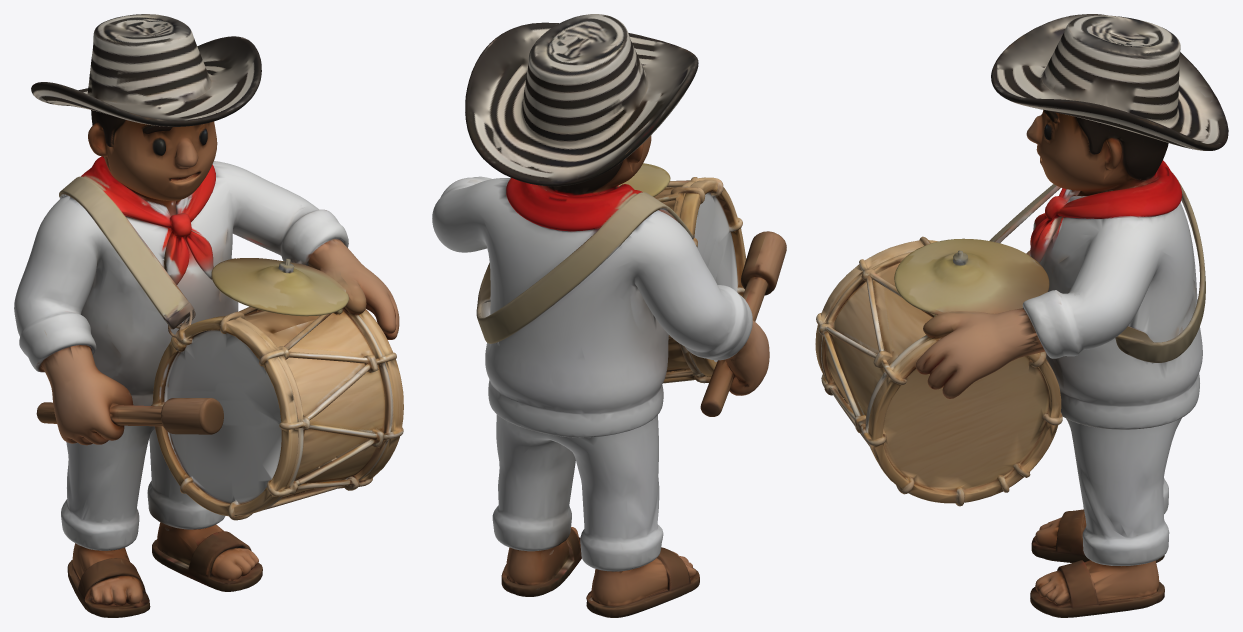
The model's file is Musico1.fbx.
3 views of the same model, side by side, from view 1: azimuth 30°, elevation 25°; view 2: azimuth 150°, elevation 25°; view 3: azimuth 270°, elevation 25° (orthographic).
Parts seen in each view (by area): view 1: Mesh_0; view 2: Mesh_0; view 3: Mesh_0.
Part boxes in pixels (x1=…): Mesh_0: x1=14, y1=14, x2=403, y2=617; Mesh_0: x1=432, y1=14, x2=786, y2=617; Mesh_0: x1=815, y1=14, x2=1228, y2=617.
Size of the model in its own units: 63.73 by 107 by 72.6.
1 material, 1 textured.
